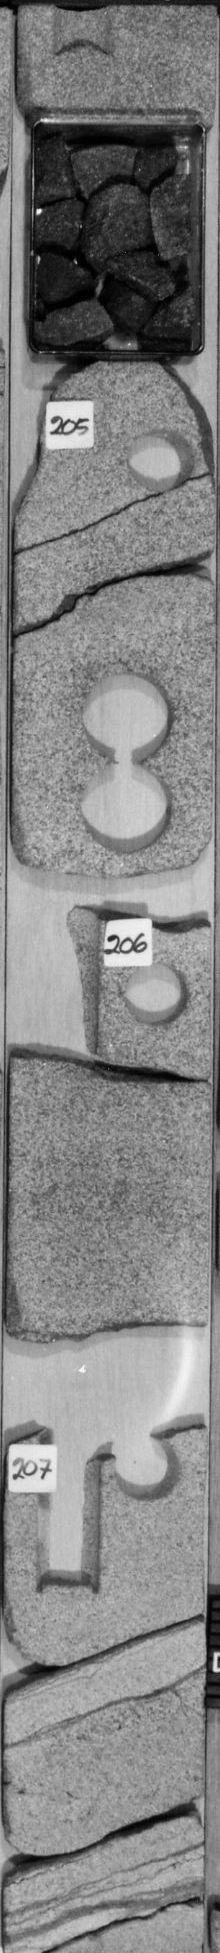hplug: (119, 421, 199, 499), (117, 955, 195, 1033), (111, 1437, 185, 1505)
scal: (73, 665, 183, 761), (75, 761, 176, 857)
vplug: (35, 1431, 111, 1601), (41, 1, 126, 65)
